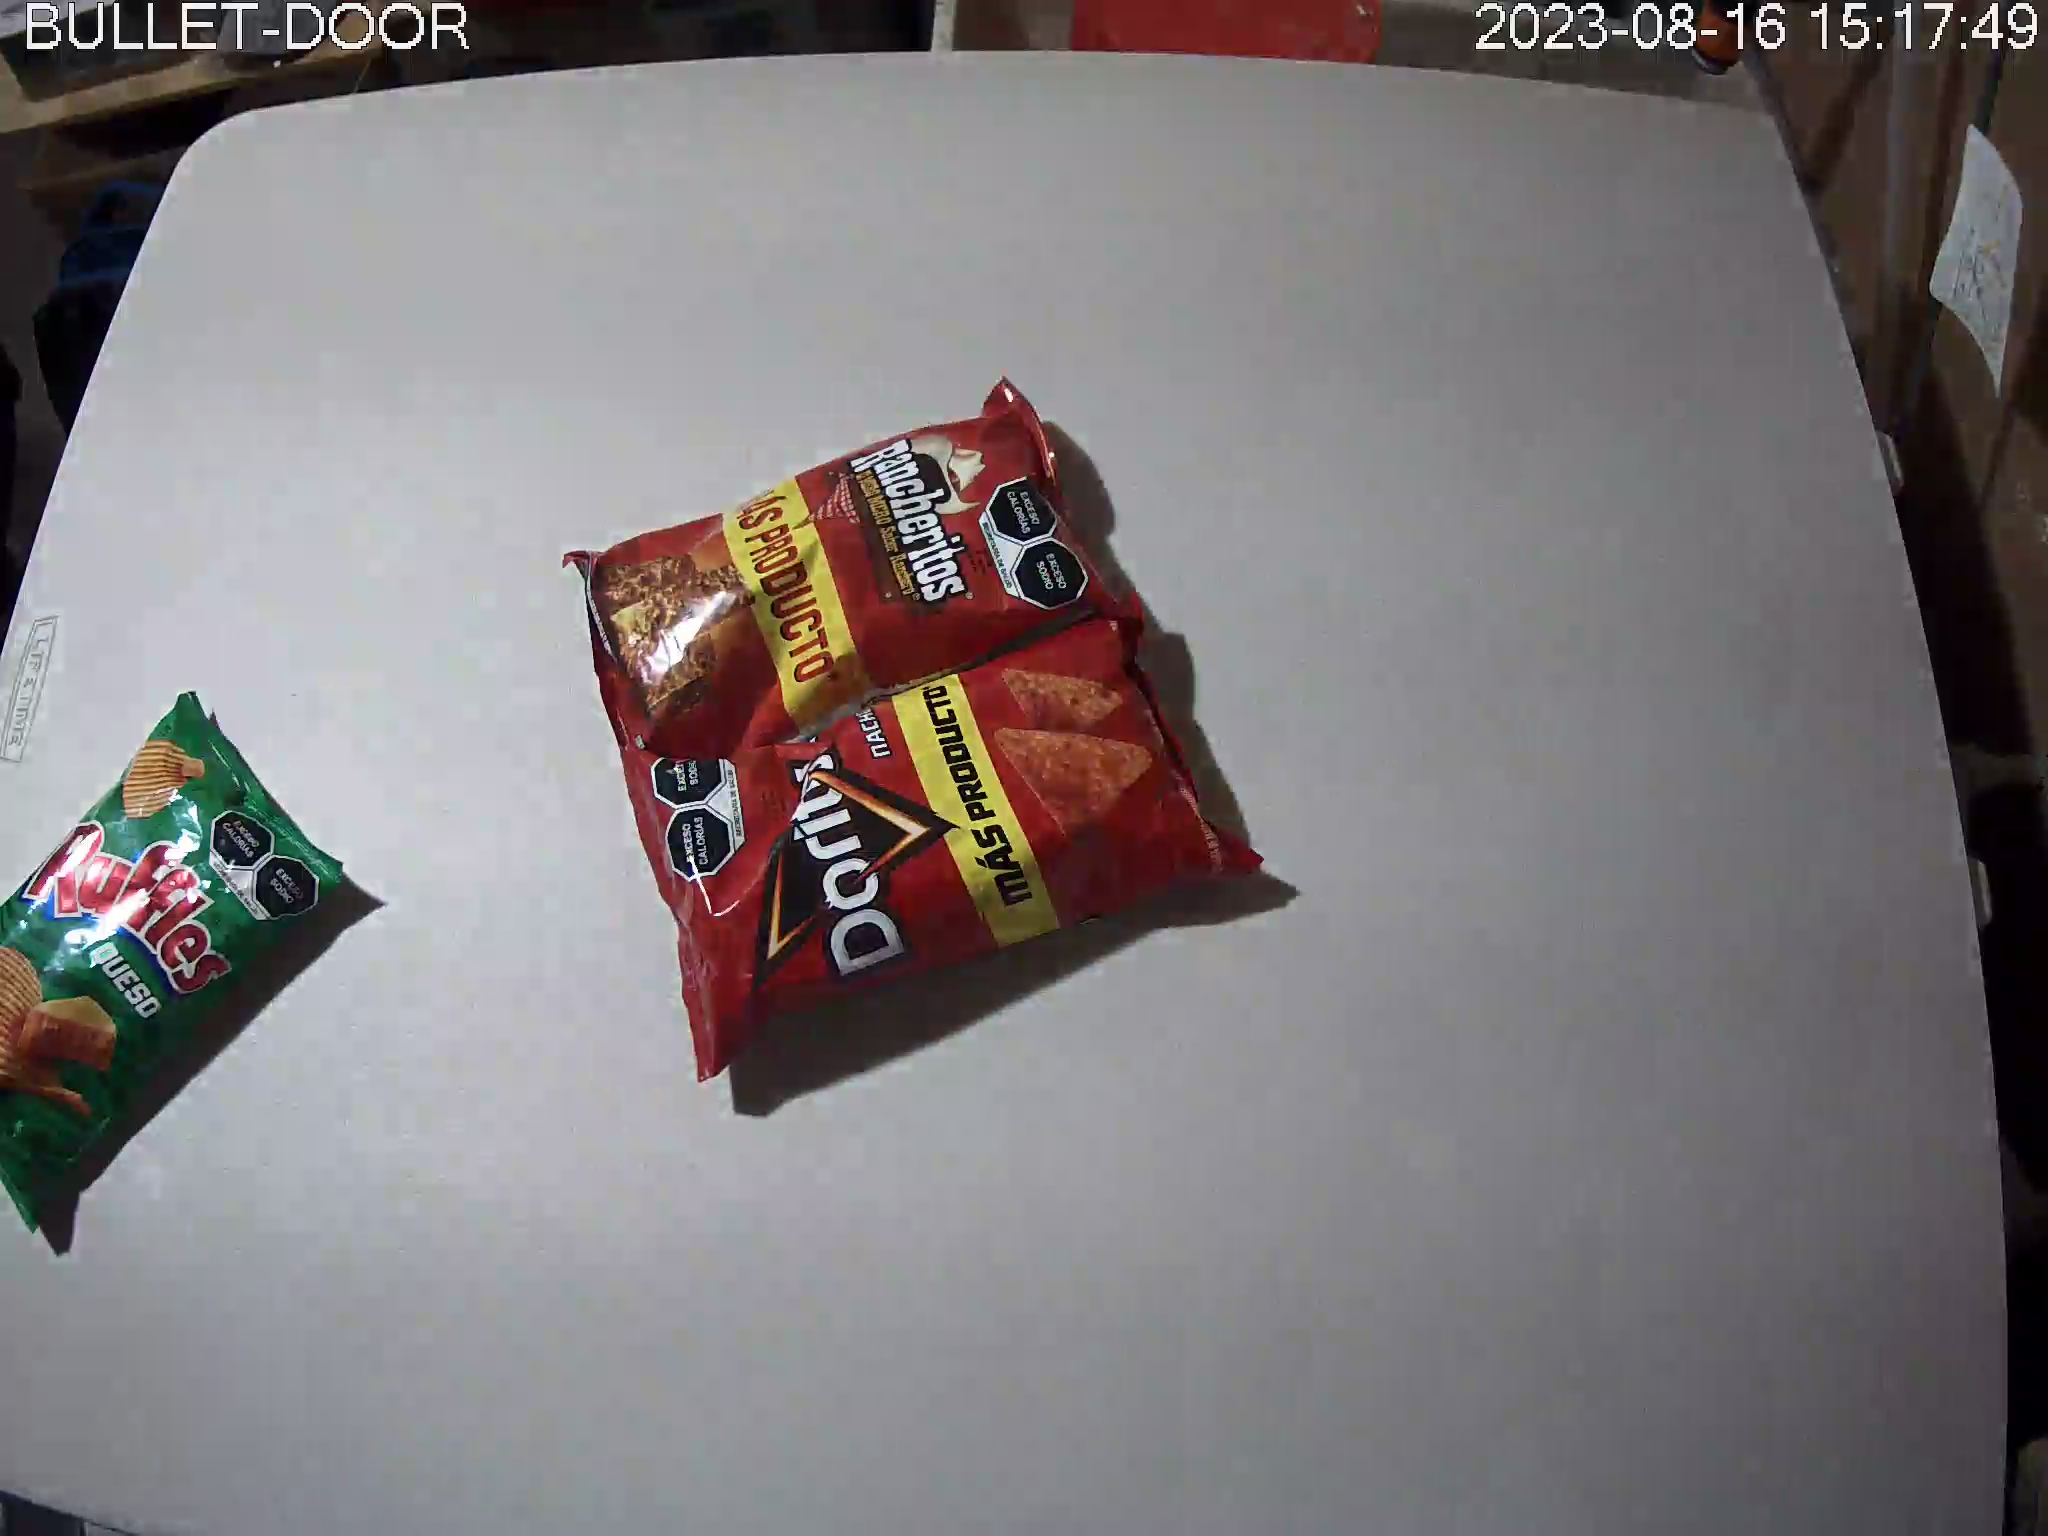DoritosN_61_F: (619, 591, 1263, 1086)
Rancheritos_58_F: (560, 374, 1130, 794)
RufflesQ_48_F: (2, 691, 345, 1234)
